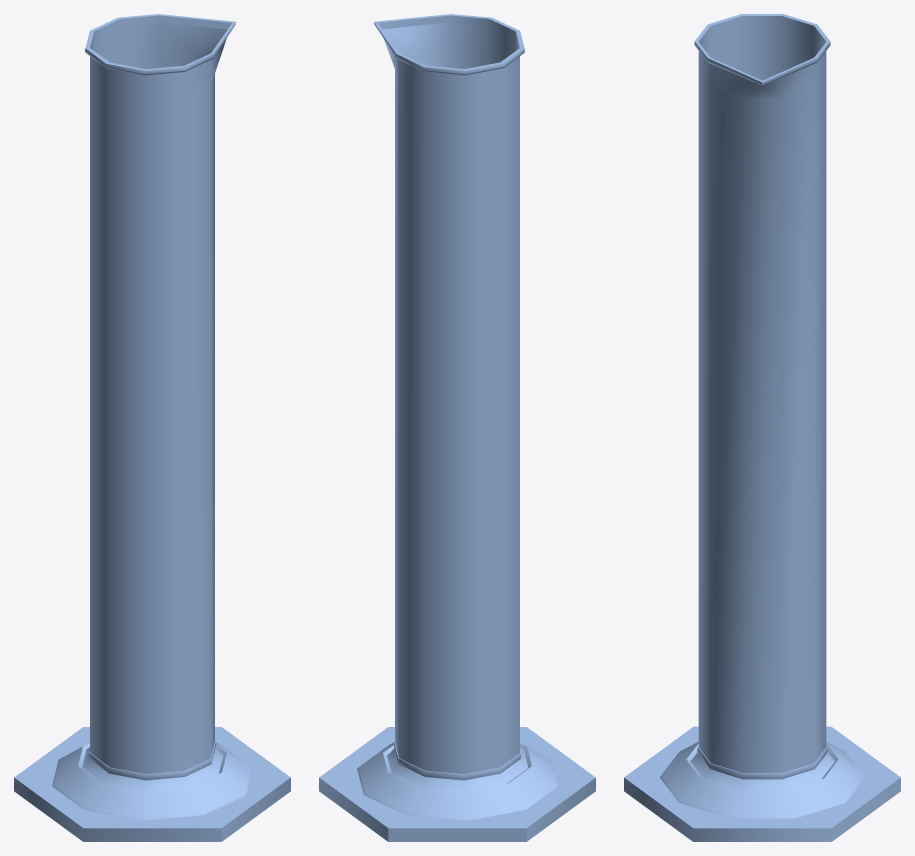
Rendered from graduated_cylinder+liquid.glb.
3 views of the same model, side by side, from view 1: azimuth 30°, elevation 25°; view 2: azimuth 150°, elevation 25°; view 3: azimuth 270°, elevation 25° (orthographic).
Visible parts, largest first — view 1: BeakerwOpacity; view 2: BeakerwOpacity; view 3: BeakerwOpacity.
Part boxes in pixels (box(x1,y1,x2,y2)): BeakerwOpacity: box(14, 14, 290, 841); BeakerwOpacity: box(319, 14, 595, 841); BeakerwOpacity: box(624, 14, 900, 841).
Size of the model in its own units: 1.73 by 5.97 by 2.
